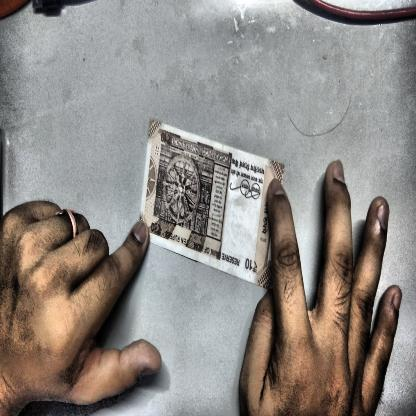Rs10: (241, 254, 261, 279), (158, 128, 174, 151)
